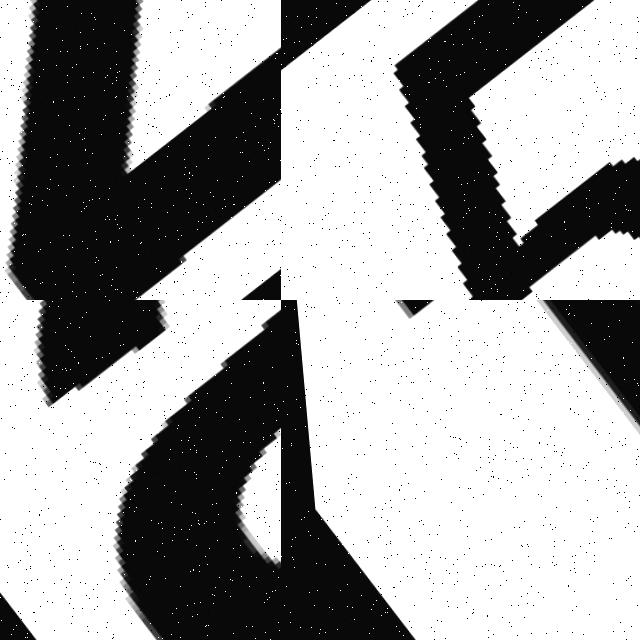1: (328, 300, 640, 640)
5: (281, 0, 640, 300)
A: (0, 300, 281, 640)
Z: (0, 0, 281, 300)
